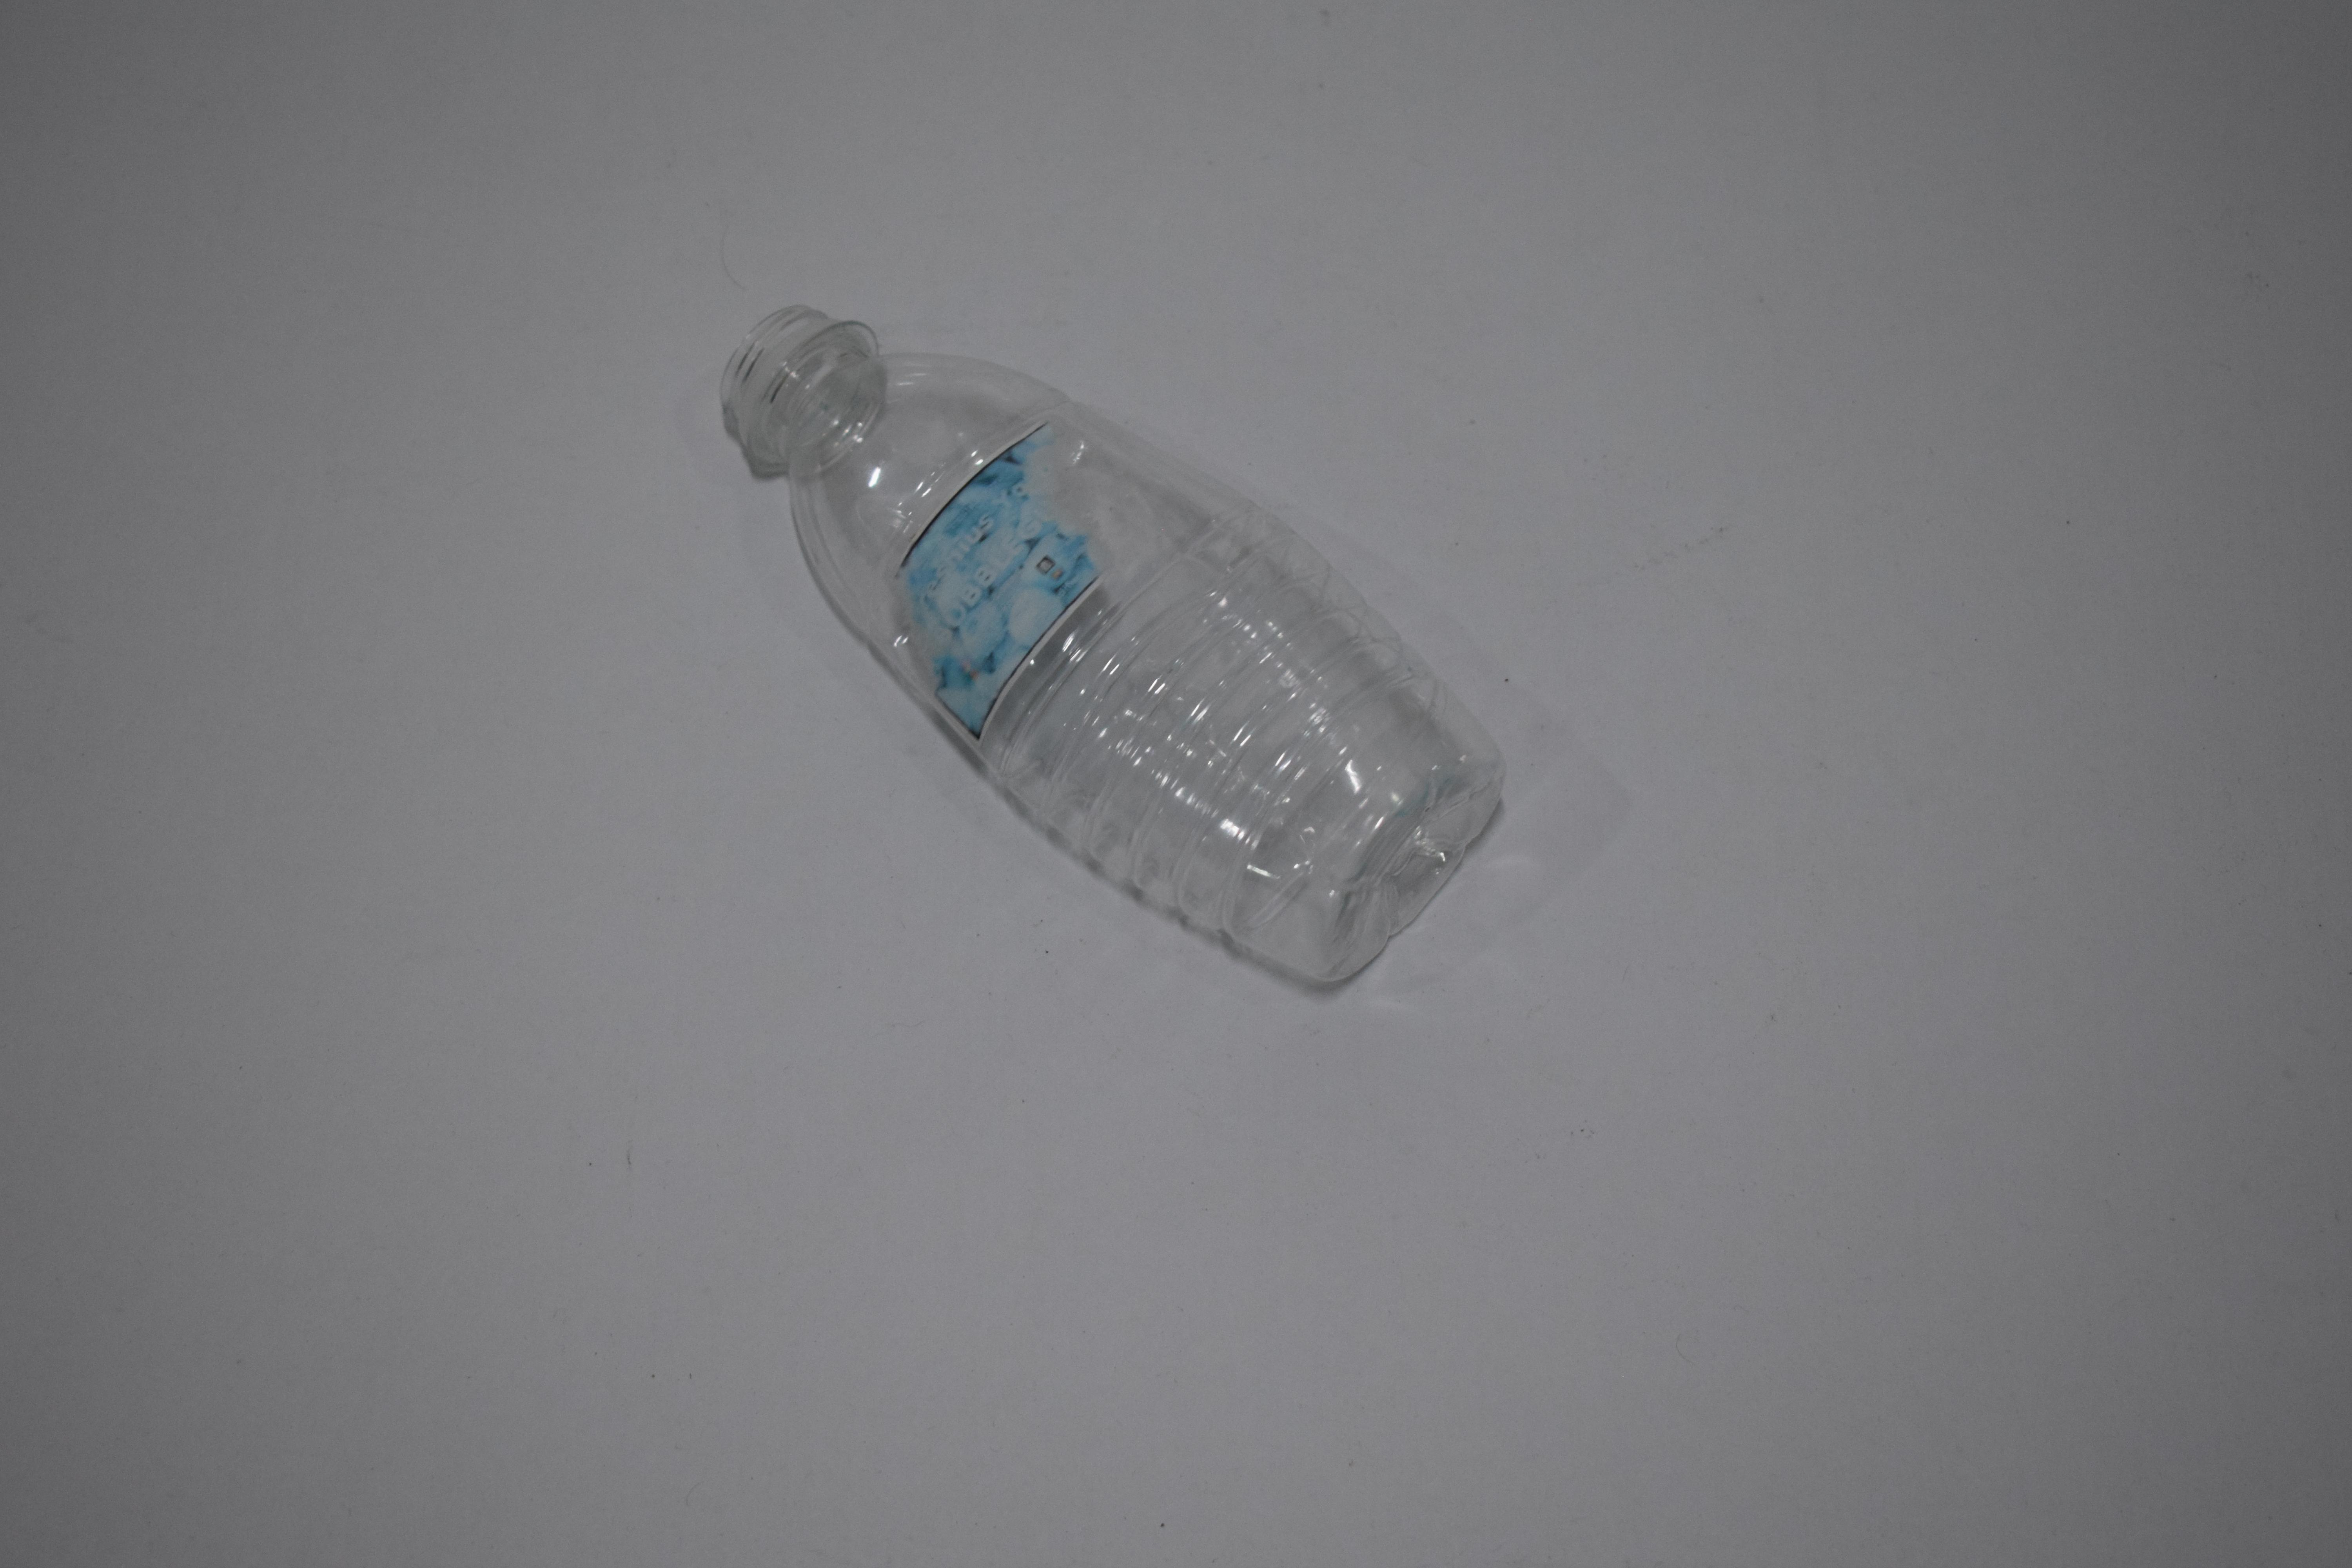bottle: (717, 329, 1514, 968)
